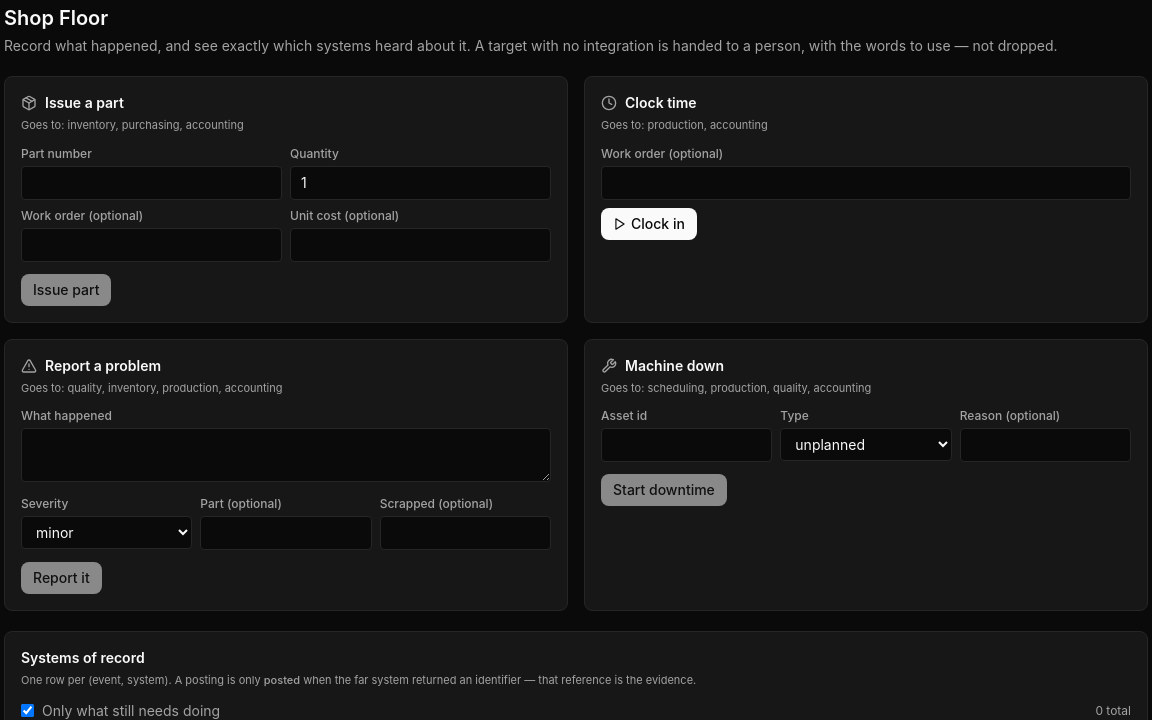
a failed clock action says what did not happen › warns about the double clock when clocking in fails
This screenshot has width=1152, height=720.
Click the button "Clock in". click: point(649, 224)
box: [601, 208, 697, 240]
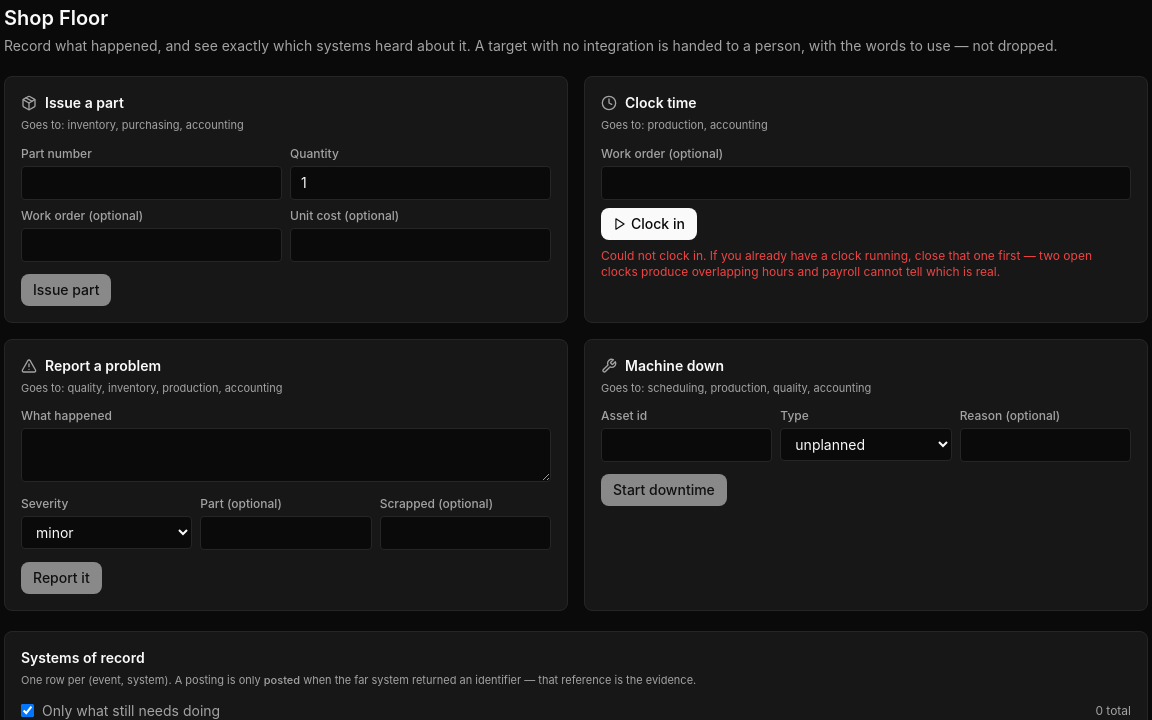
expect the text "two open clocks produce overlapping hours" is shown: met, box [601, 248, 1092, 278]
